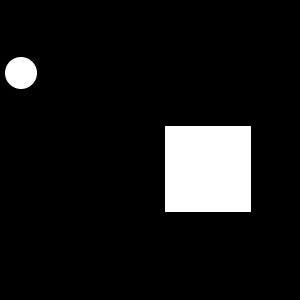circle: (165, 126, 251, 212), (215, 195, 226, 206)
rectangle: (5, 57, 37, 89)
